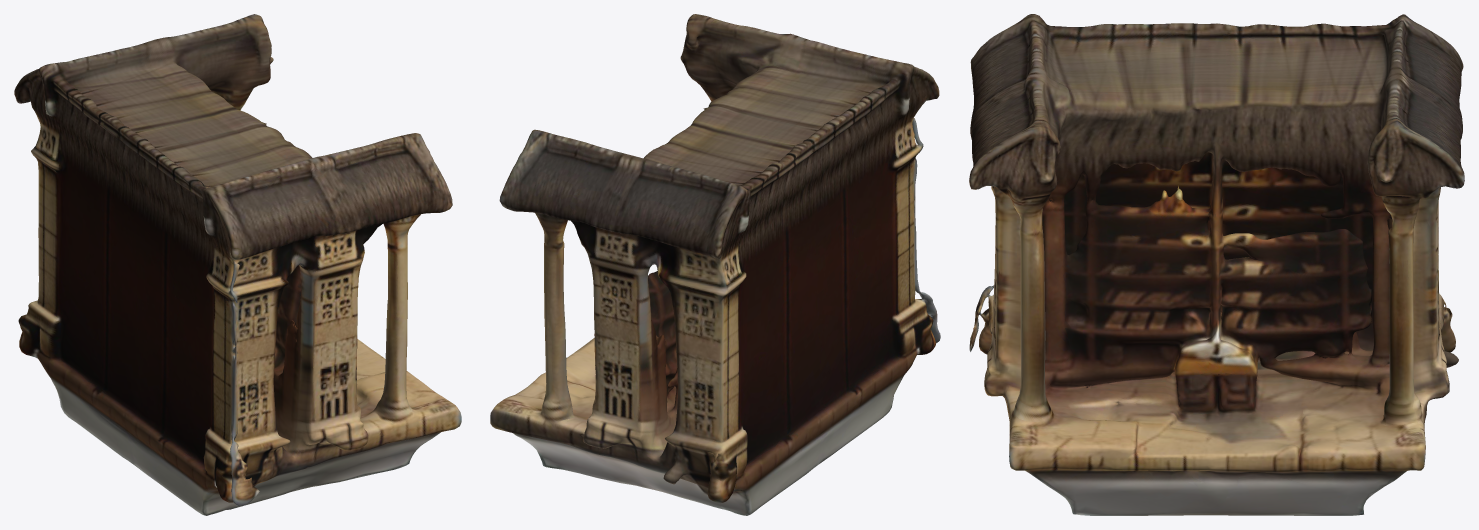
Rendered from library.glb.
3 renders of one model, left to right at view 1: azimuth 30°, elevation 25°; view 2: azimuth 150°, elevation 25°; view 3: azimuth 270°, elevation 25°, orthographic. The views are drawn at different scales.
Parts seen in each view (by area): view 1: tripo_node_de30eb79-5f9c-411c-a177-6cfa1f29197e; view 2: tripo_node_de30eb79-5f9c-411c-a177-6cfa1f29197e; view 3: tripo_node_de30eb79-5f9c-411c-a177-6cfa1f29197e.
Part boxes in pixels (box(x1,y1,x2,y2)): tripo_node_de30eb79-5f9c-411c-a177-6cfa1f29197e: box(14, 14, 461, 515); tripo_node_de30eb79-5f9c-411c-a177-6cfa1f29197e: box(490, 14, 940, 515); tripo_node_de30eb79-5f9c-411c-a177-6cfa1f29197e: box(969, 14, 1464, 515).
Bounding box in the file's own units: 0.4809 × 0.6402 × 0.742.
1 material, 1 textured.
